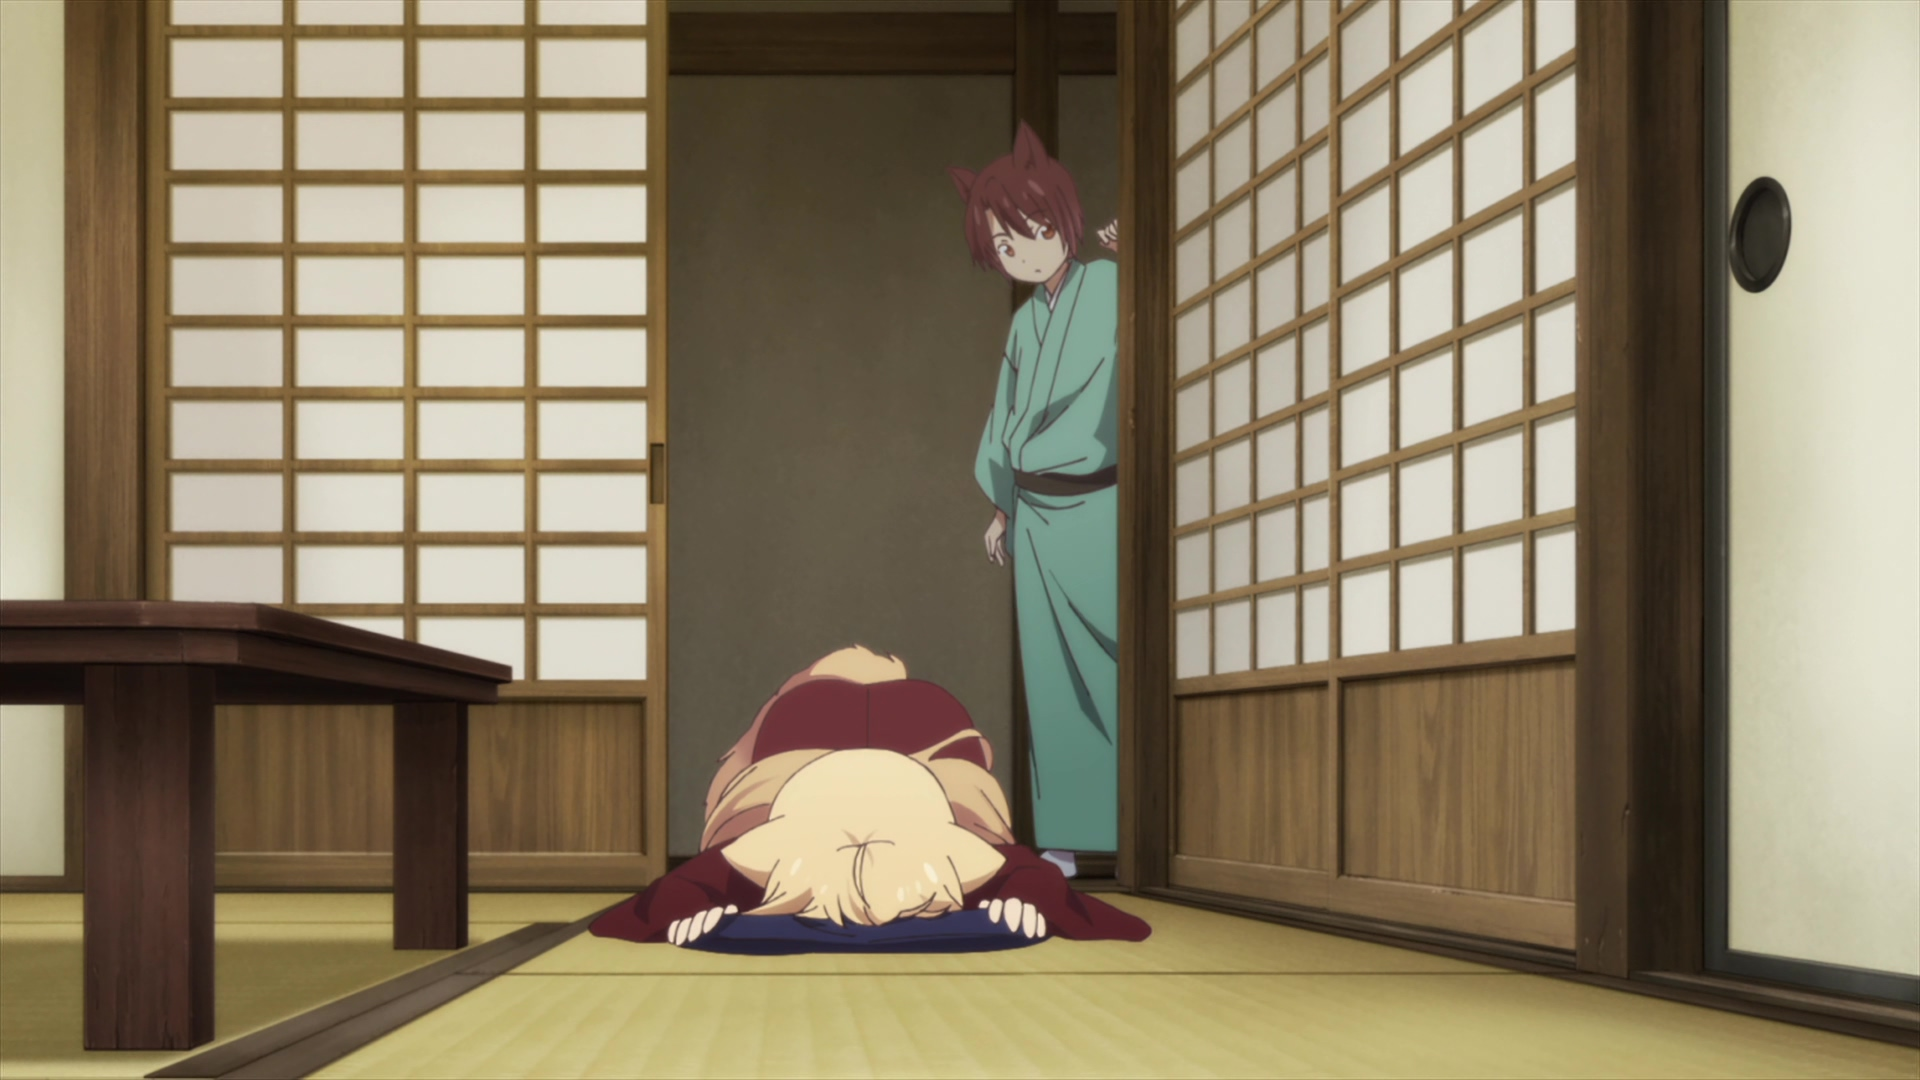枣: (947, 120, 1120, 878)
柚: (588, 645, 1154, 949)
